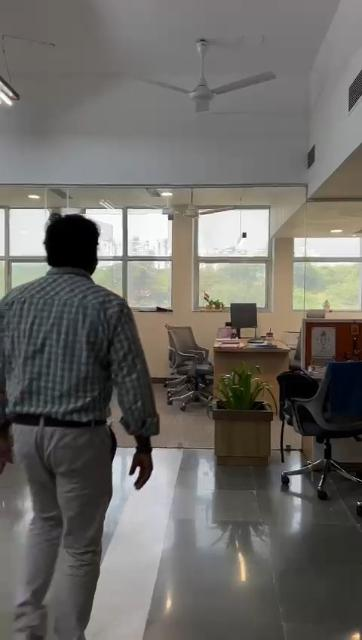floor: (92, 410, 362, 640)
moving-obj: (4, 232, 160, 640)
object: (280, 365, 362, 487), (210, 372, 276, 466), (167, 326, 213, 406), (231, 303, 263, 339)
wall: (272, 201, 292, 327), (174, 220, 196, 324)
